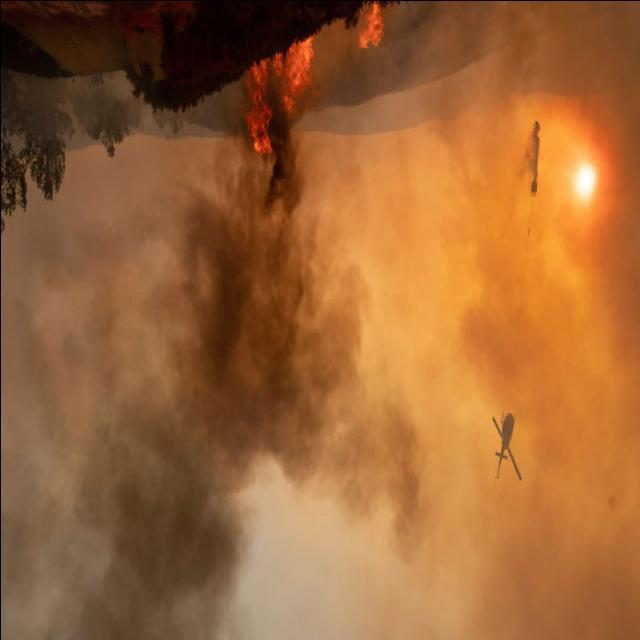Fire: (243, 6, 385, 158)
